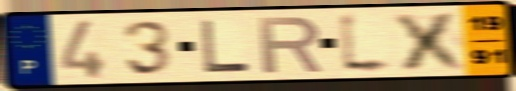3: (120, 19, 174, 76)
4: (58, 17, 109, 81)
L: (336, 9, 398, 76), (197, 19, 253, 74)
R: (256, 15, 326, 75)
X: (391, 9, 473, 71)
